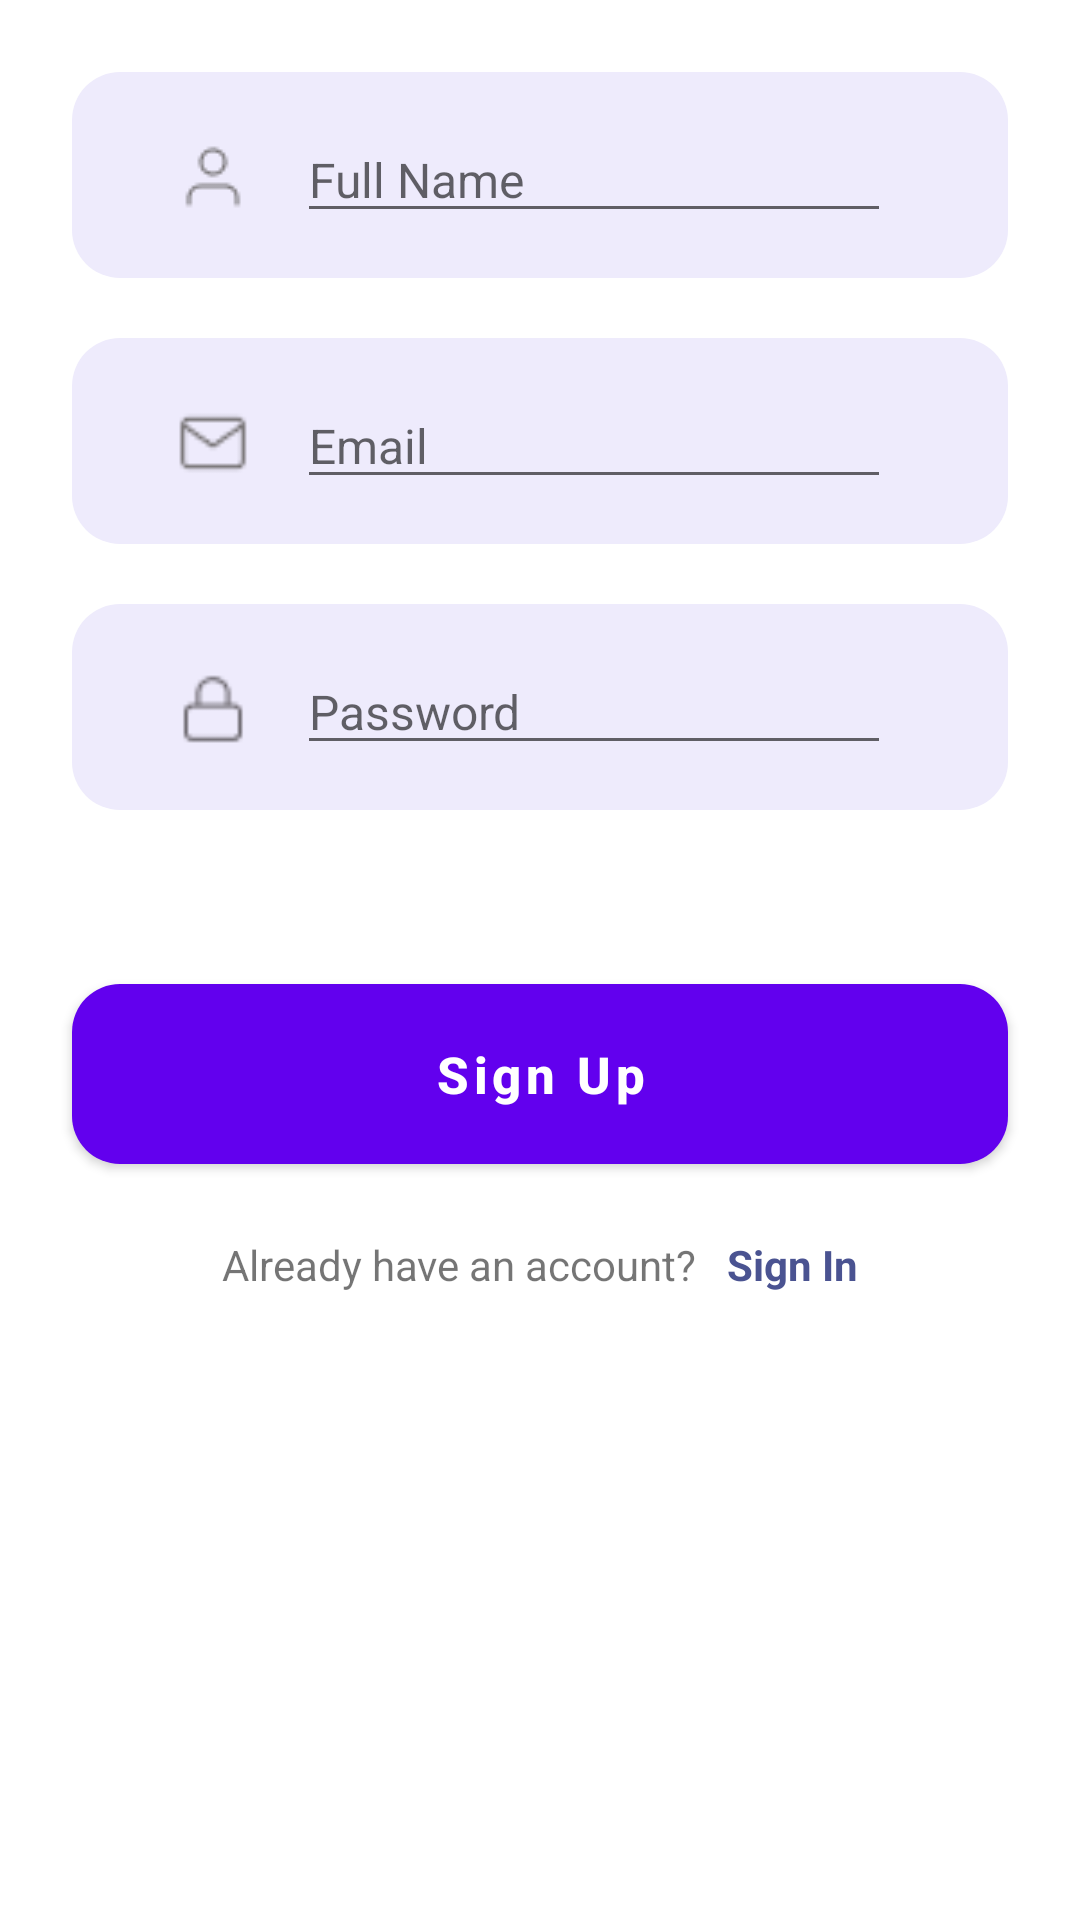

Locate icon controls on the screen. Image size 1080 x 1920, boxes as (x1, y1, x2, y2).
lock: (183, 676, 243, 743)
user: (185, 146, 241, 206)
